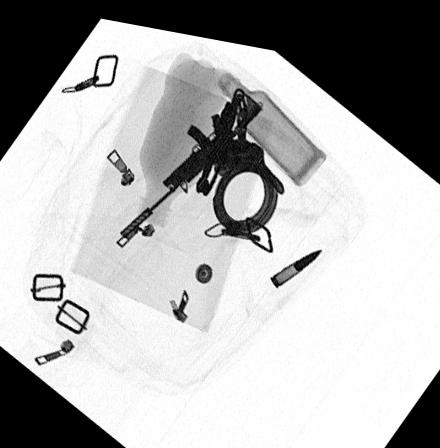Bullet: (269, 233, 324, 277)
Gun: (119, 84, 265, 233)
HandCuffs: (192, 79, 286, 225)
